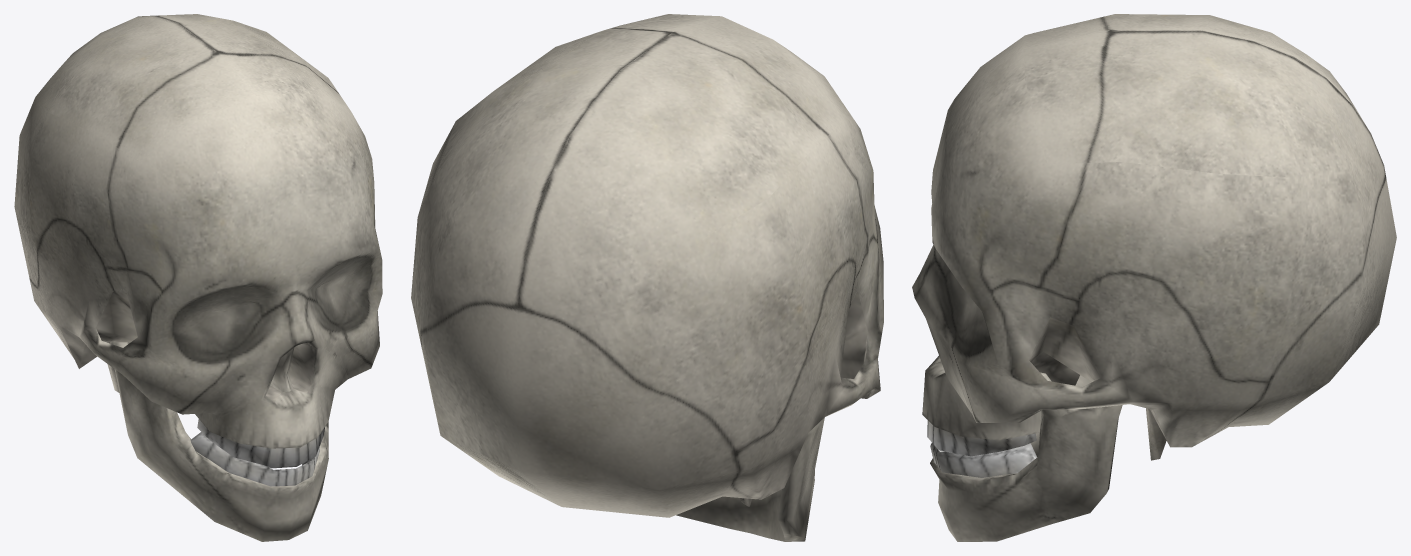
Rendered from craneo.obj.
3 views of the same model, side by side, from view 1: azimuth 30°, elevation 25°; view 2: azimuth 150°, elevation 25°; view 3: azimuth 270°, elevation 25° (orthographic). The views are drawn at different scales.
Visible parts, largest first — view 1: craneo; view 2: craneo; view 3: craneo.
Part boxes in pixels (x1,y1,x2,y2): craneo: (14, 14, 382, 541); craneo: (411, 14, 883, 541); craneo: (912, 14, 1396, 541).
Size of the model in its own units: 0.1798 by 0.2581 by 0.2273.
Materials: 1 (1 with a texture image).
